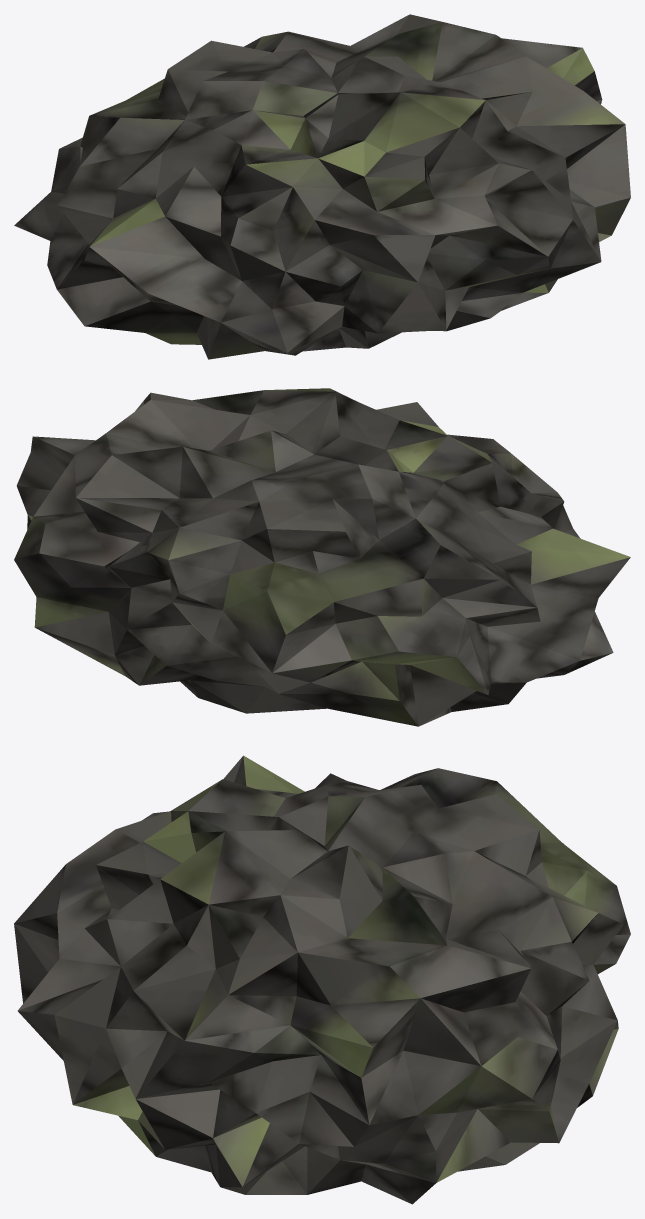
Rendered from rock5.fbx.
The picture shows the model from 3 angles, top to bottom: view 1: azimuth 30°, elevation 25°; view 2: azimuth 150°, elevation 25°; view 3: azimuth 270°, elevation 25°; orthographic projection. The views are drawn at different scales.
Visible parts, largest first — view 1: rock5; view 2: rock5; view 3: rock5.
Boxes of the visible parts, x1,y1,x2,y2 form: rock5: [14, 14, 630, 359]; rock5: [14, 388, 630, 726]; rock5: [14, 755, 630, 1204].
Bounding box in the file's own units: 3.45 × 1.26 × 2.69.
Materials: 1 (1 with a texture image).
